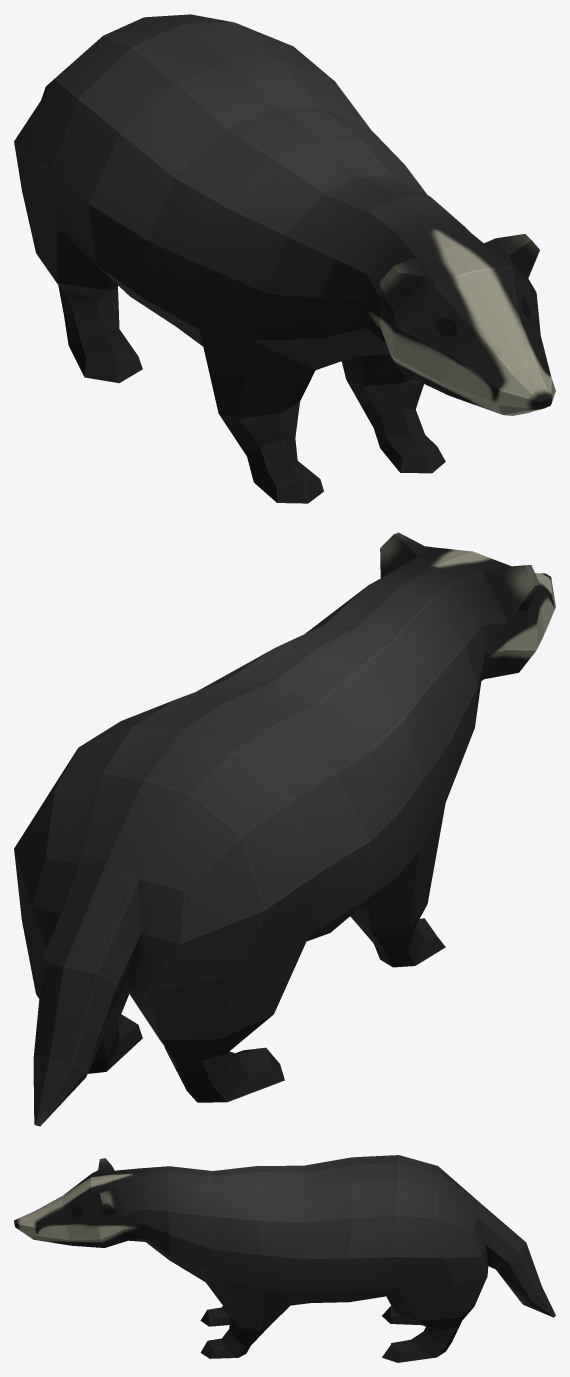
Rendered from badger.glb.
3 renders of one model, top to bottom at view 1: azimuth 30°, elevation 25°; view 2: azimuth 150°, elevation 25°; view 3: azimuth 270°, elevation 25°, orthographic. The views are drawn at different scales.
Visible parts, largest first — view 1: node-0; view 2: node-0; view 3: node-0.
Boxes of the visible parts, x1,y1,x2,y2 form: node-0: (14,14,555,503); node-0: (14,532,555,1126); node-0: (14,1155,555,1362).
Bounding box in the file's own units: 3.41 × 3.8 × 10.71.
1 material, 1 textured.
